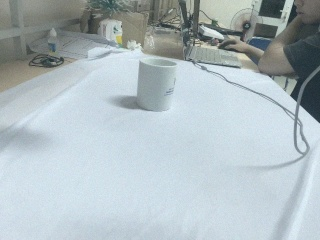cup: (135, 55, 178, 112)
